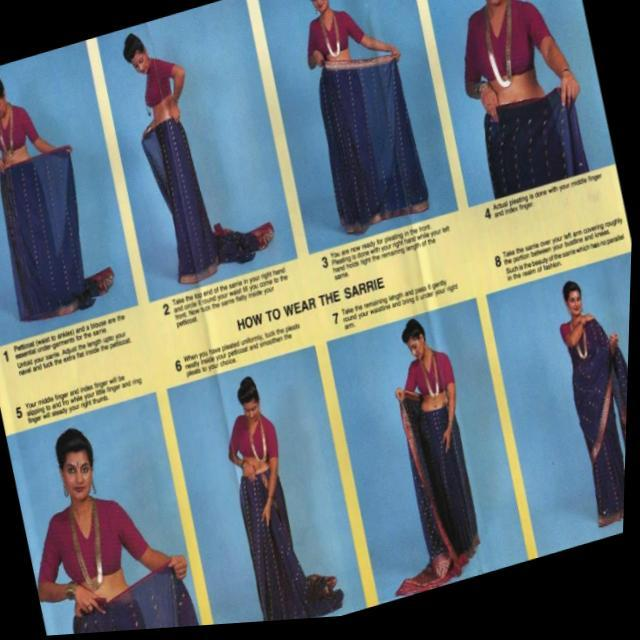Nonhelmet: (43, 420, 96, 504)
